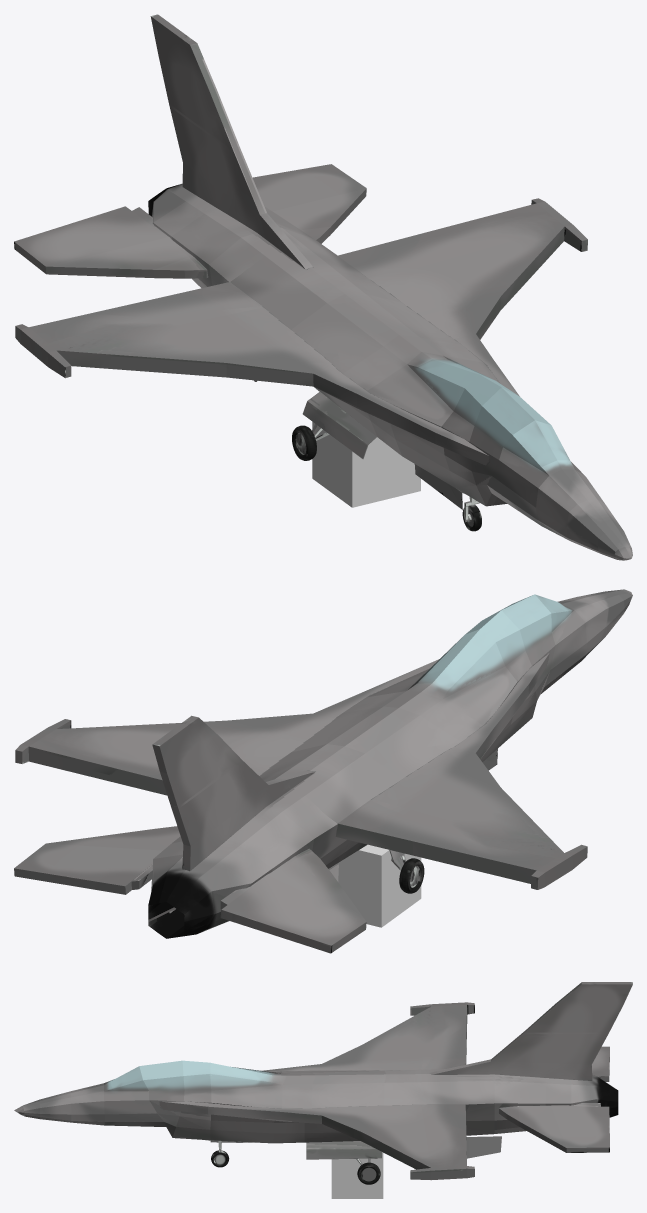
File: F16.external.glb
3 renders of one model, top to bottom at view 1: azimuth 30°, elevation 25°; view 2: azimuth 150°, elevation 25°; view 3: azimuth 270°, elevation 25°, orthographic. The views are drawn at different scales.
Visible parts, largest first — view 1: f16, Cube; view 2: f16, Cube; view 3: f16, Cube.
Part boxes in pixels (bbox=[...]): f16: bbox=[14, 14, 632, 560]; Cube: bbox=[312, 422, 420, 507]; f16: bbox=[14, 589, 632, 953]; Cube: bbox=[328, 844, 421, 927]; f16: bbox=[14, 982, 632, 1184]; Cube: bbox=[331, 1152, 383, 1198].
Size of the model in its own units: 15.24 by 8.73 by 23.95.
2 materials, 1 textured.
